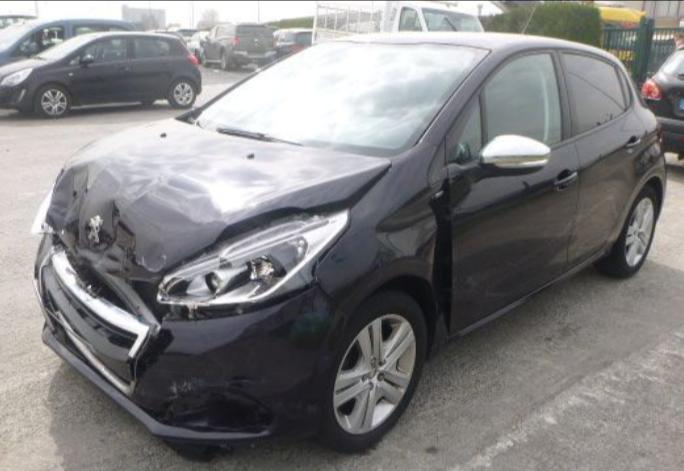Broken part: (27, 228, 349, 446), (51, 115, 392, 286), (314, 139, 458, 355), (30, 182, 54, 233)
Dent: (143, 391, 272, 433), (189, 172, 285, 225), (236, 285, 331, 338), (376, 185, 439, 259), (45, 167, 89, 232), (99, 198, 138, 261), (141, 244, 164, 269)
Missing part: (209, 402, 254, 430)
Paint chip: (137, 254, 167, 272), (168, 381, 179, 400), (188, 382, 199, 395), (179, 379, 188, 392)
Scratch: (216, 380, 252, 388), (202, 380, 216, 386), (192, 377, 202, 380)
